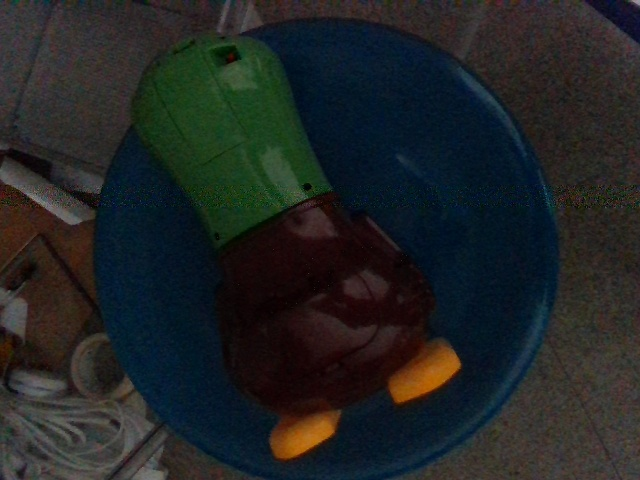screw hole: (301, 181, 313, 192), (211, 231, 221, 241)
toy: (129, 33, 462, 461)
